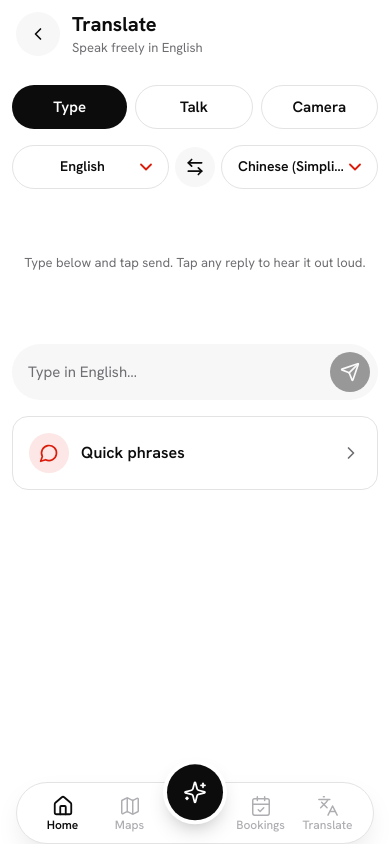
Scenario: Translate camera mode › shows the camera controls without the bottom tab bar and restores it on exit
Check: the navigation bar named "Primary" is shown, box [0,782,389,843]
Click the button "Camera": (319, 107) [261,85,378,129]
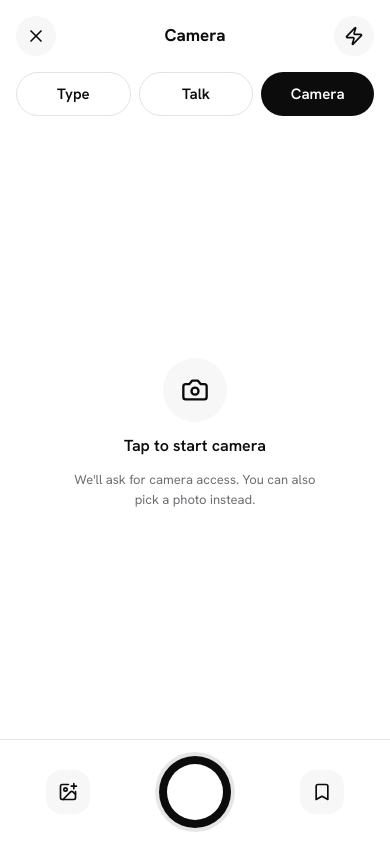
Check: the button named "Take photo" is shown, box [159,756,231,828]
Check: the navigation bar "Primary" is gone
Click the button named "Close camera": (36, 36) [16,16,56,56]
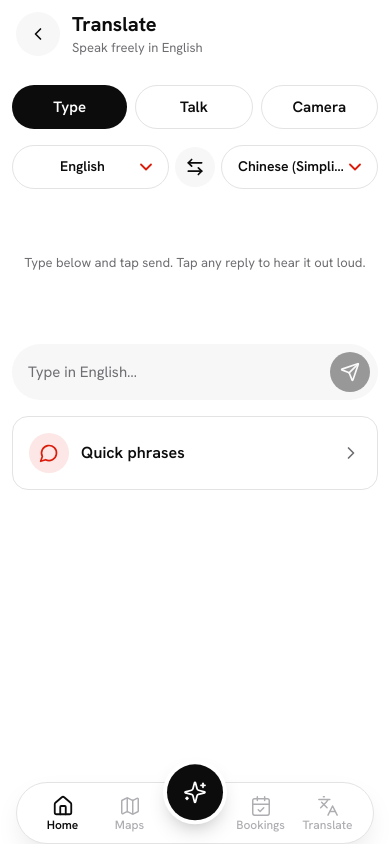
Check: the navigation bar named "Primary" is shown, box [0,782,389,843]
